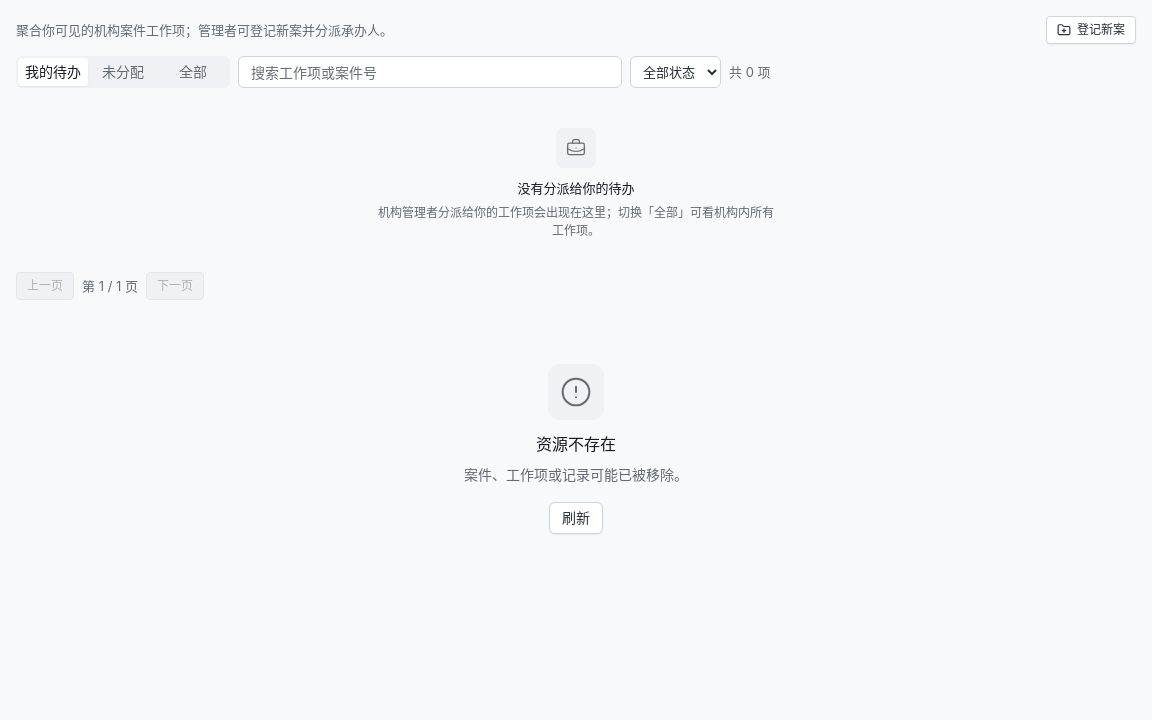
Test: Z06/Z10：角色待办范围与空态 › 空态区分：我的待办为空 vs 全部为空
Expected: the message with test id "queue-empty" shows "没有分派给你的待办", [518,180,634,196]
Step 1. Click the radio button with test id "queue-scope-all" → x=193, y=72, box [158,58,228,86]
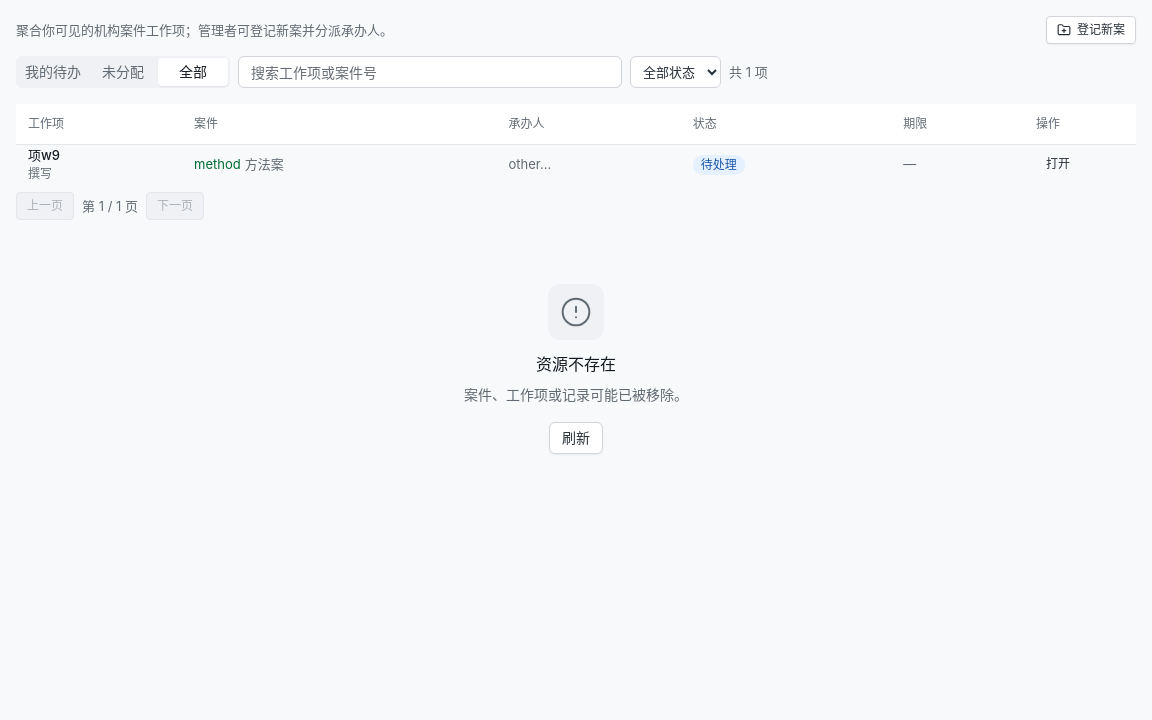
Now the row with test id "work-item-w9" is shown, box [16,144,1136,184]
Now the message with test id "queue-empty" is gone
